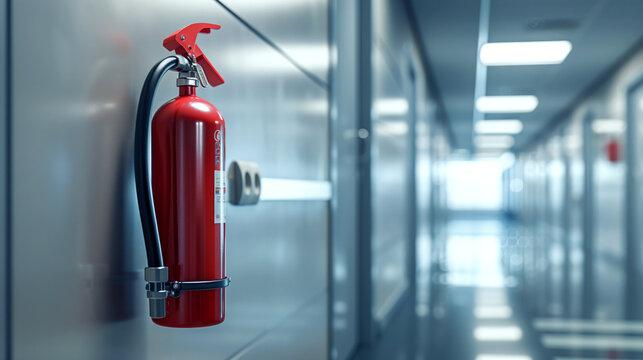wall-mounted: (121, 16, 278, 330)
